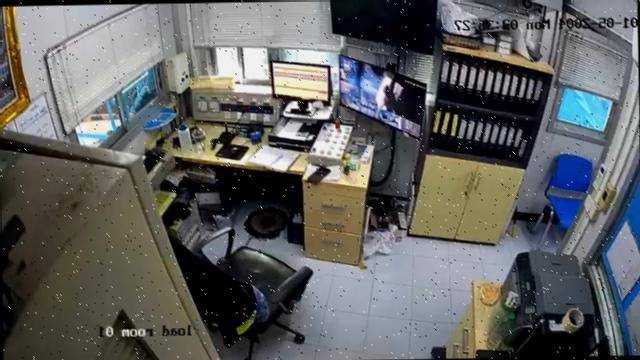Phone: (306, 165, 331, 183)
